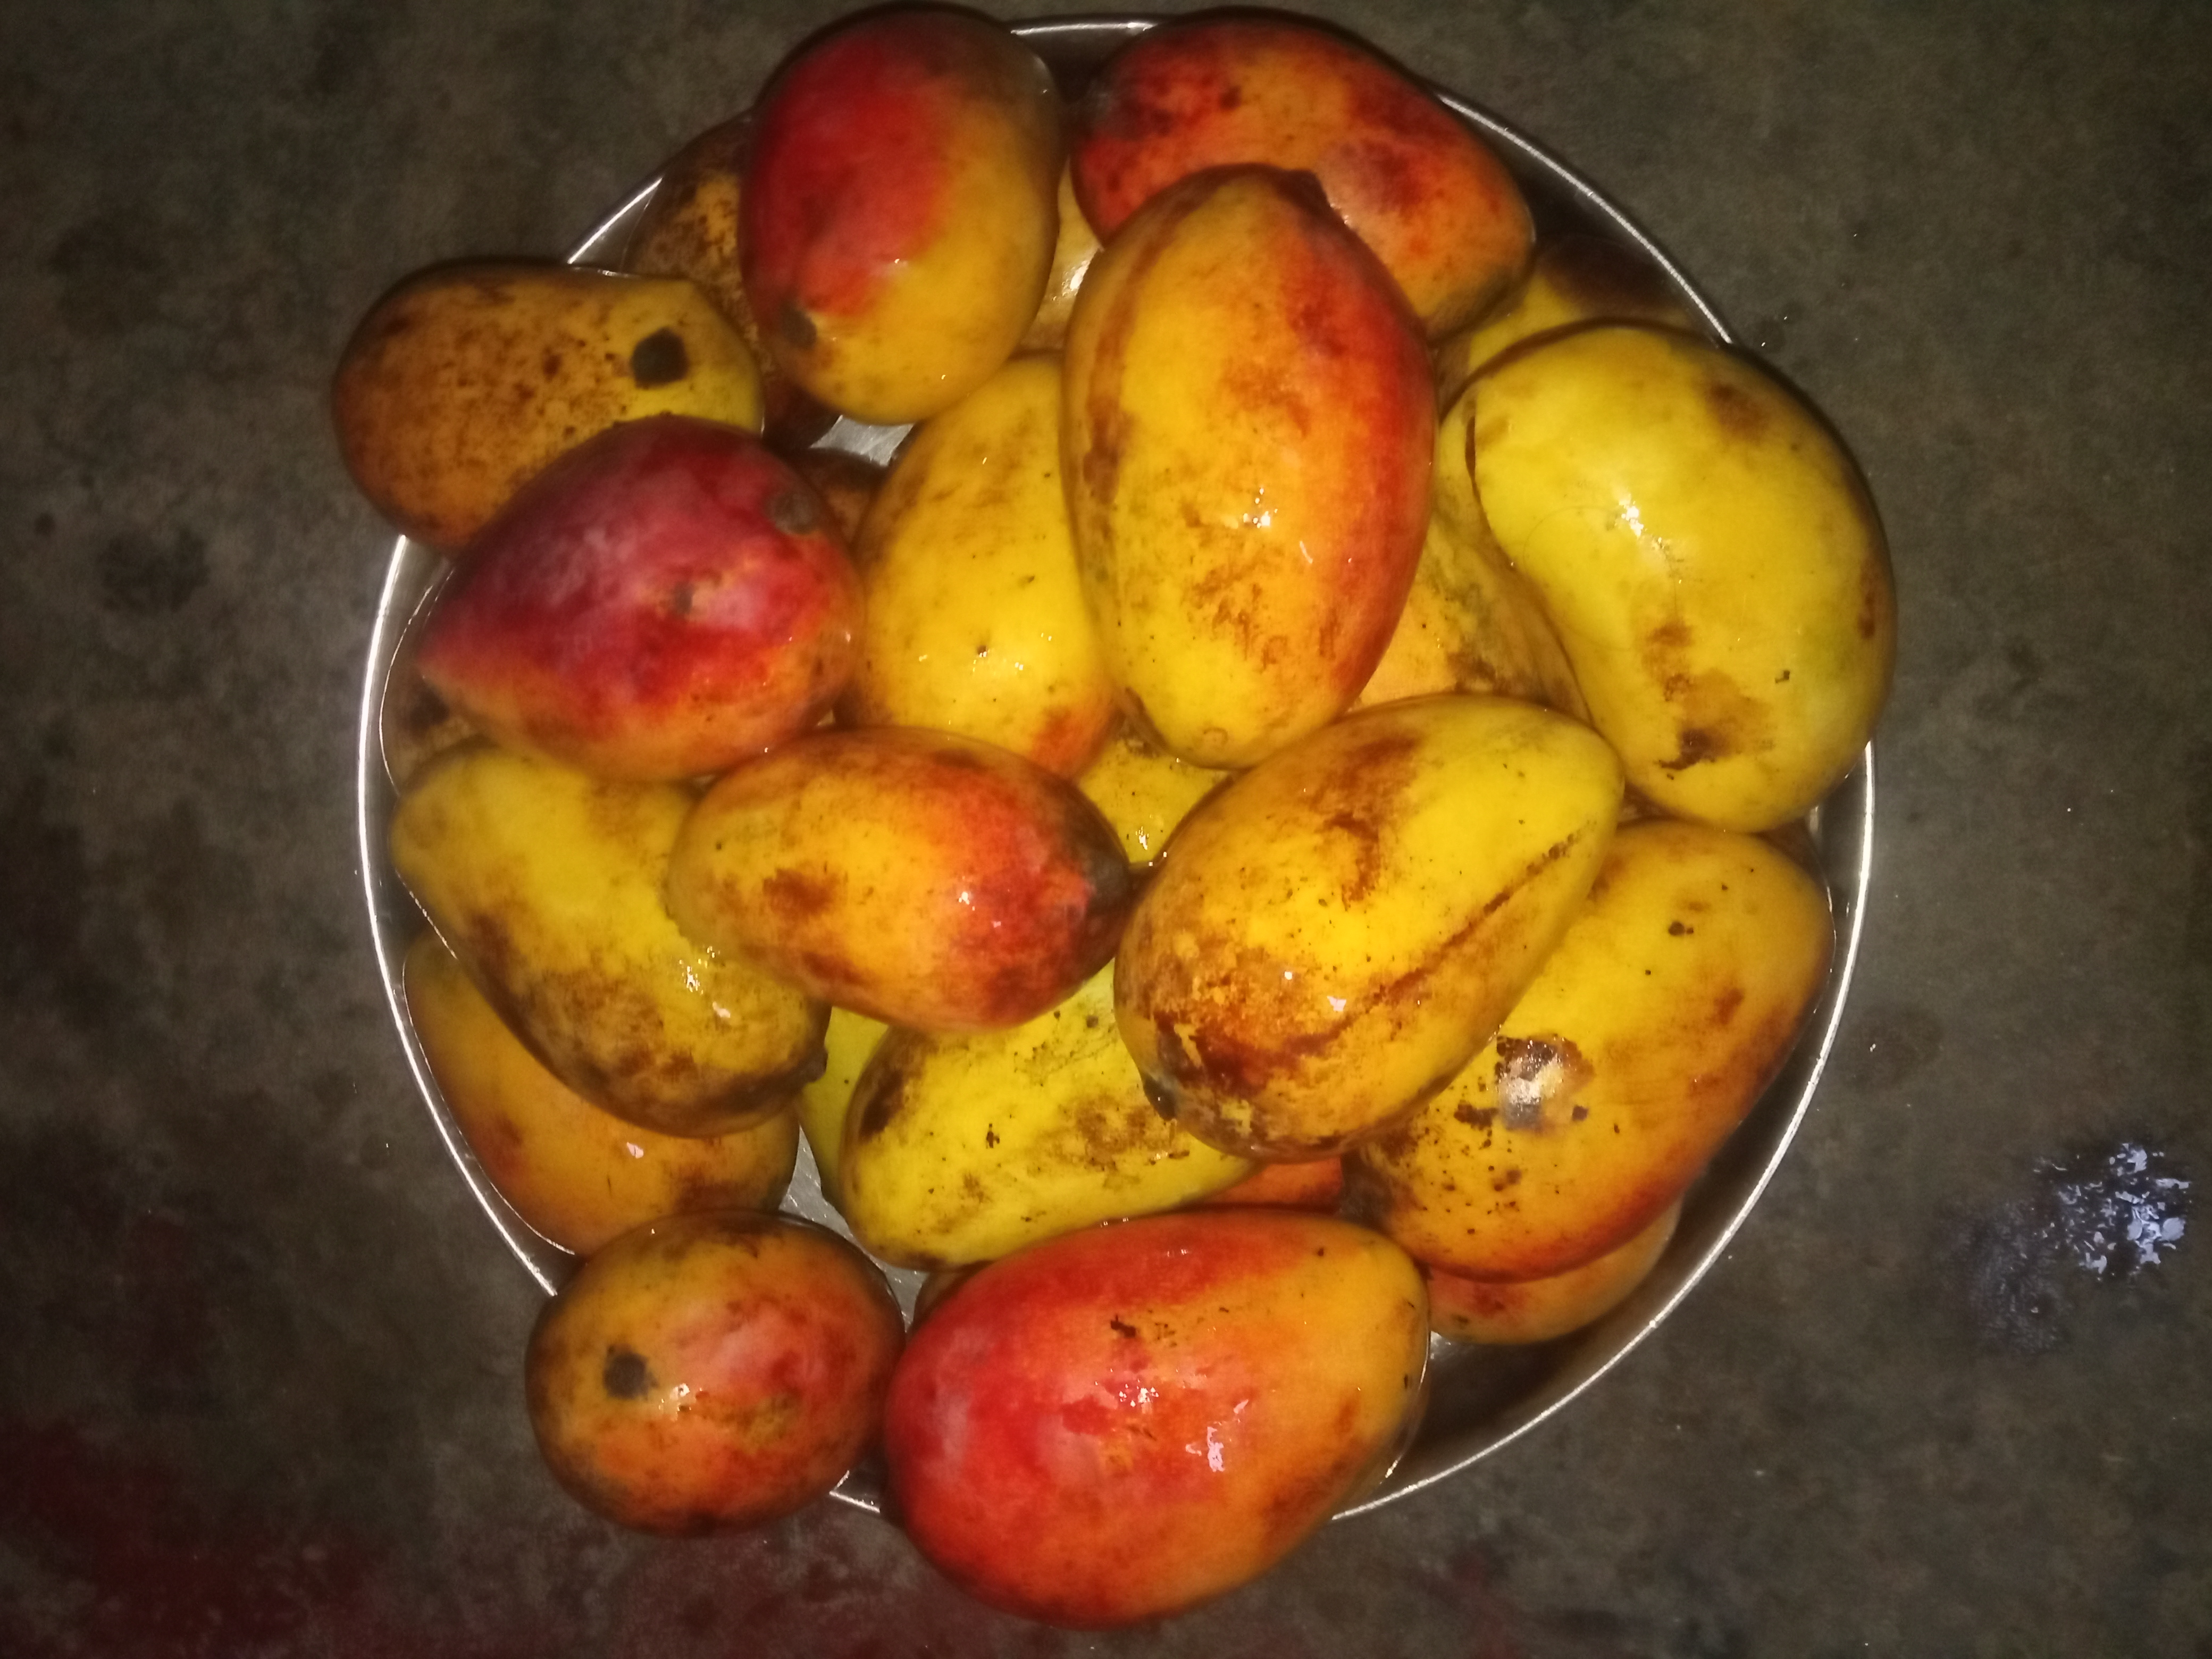food: (320, 3, 1907, 1640)
